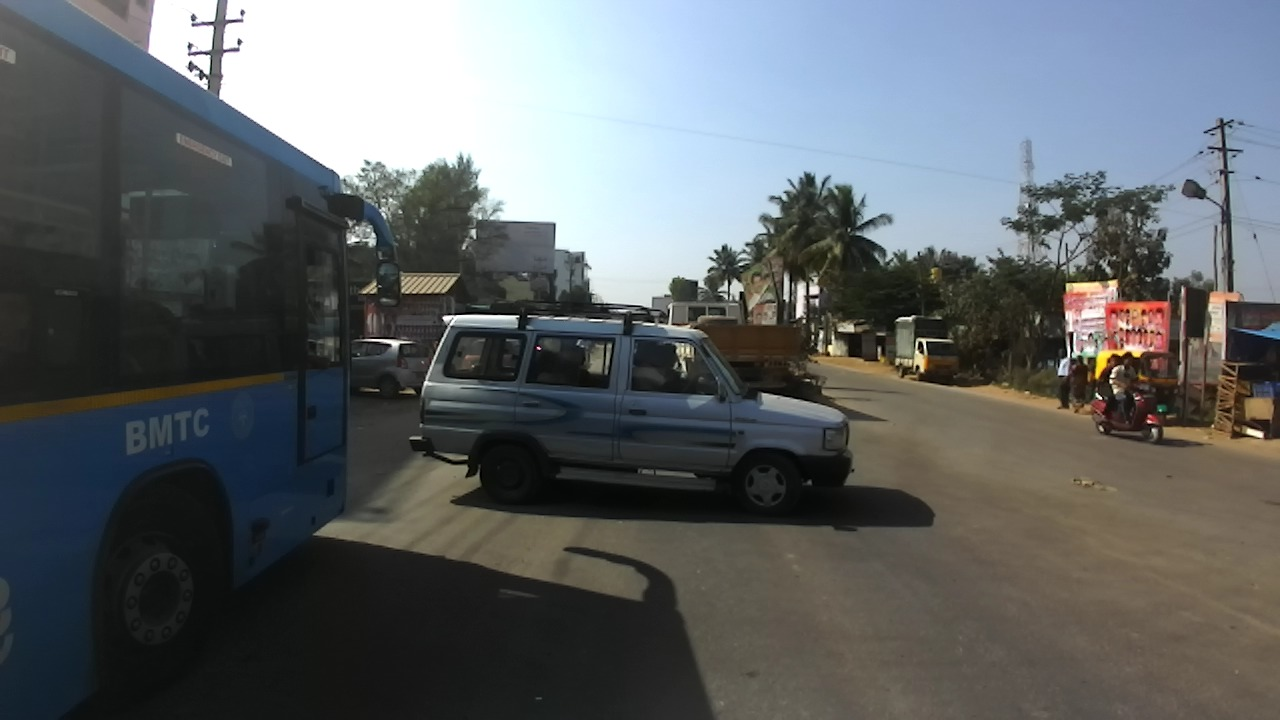autorickshaw: (1093, 346, 1180, 429)
bus: (1, 1, 404, 720)
car: (406, 302, 853, 513), (349, 337, 429, 399)
motorcycle: (1092, 373, 1166, 444)
person: (1055, 348, 1070, 410), (1072, 355, 1087, 415)
rider: (1111, 351, 1139, 422), (1098, 353, 1125, 417)
truck: (664, 299, 822, 402), (895, 315, 960, 383)
